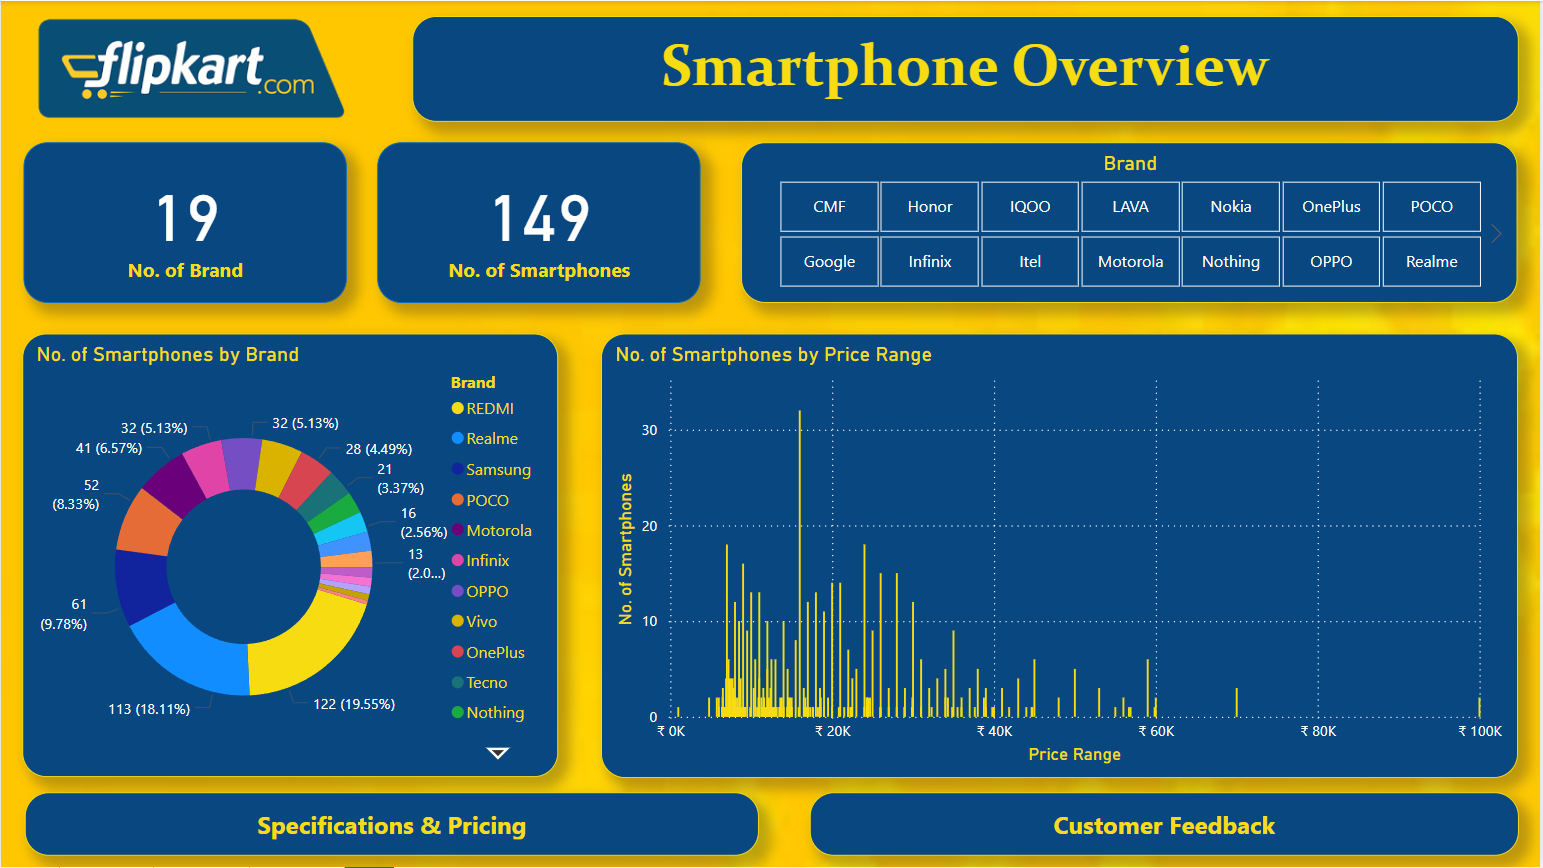

The page's visual inventory and layout, read from the dashboard file:
{"tool":"powerbi","page":{"name":"Page 1","canvas":[1280,720],"ordinal":0},"visuals":[{"type":"donutChart","fields":{"Category":["Flipkart_data_phones.Brand"],"Y":["CountNonNull(Flipkart_data_phones.Brand)"]},"box":[18.1,276.9,445.2,368.7],"z":0},{"type":"clusteredColumnChart","fields":{"Category":["Flipkart_data_phones.Prices"],"Y":["CountNonNull(Flipkart_data_phones.Prices)"]},"box":[498.9,276.4,762.2,369.5],"z":1000},{"type":"card","fields":{"Values":["Count(Flipkart_data_phones.Brand)"]},"box":[18.9,117.8,269.1,133.8],"z":2000},{"type":"card","fields":{"Values":["Count(Flipkart_data_phones.Model)"]},"box":[312.7,117.8,269.1,133.8],"z":3000},{"type":"image","box":[19.5,7,276.9,100.2],"z":4000},{"type":"actionButton","title":"Specifications & Pricing","box":[19.5,658.1,610.8,52.9],"z":5000},{"type":"actionButton","box":[672,658.1,589.9,52.9],"z":6000},{"type":"textbox","box":[342.3,12.5,919.7,87.7],"z":7000},{"type":"slicer","title":"Brand","fields":{"Values":["Flipkart_data_phones.Brand"]},"box":[615.3,117.8,645.8,133.8],"z":11000}]}

Visuals, with their boxes in screenshot pixels (x1, y1, x2, y2), scaled from the page's 1280x720 canvas onto the 1543x868 screenshot:
donutChart - Flipkart_data_phones.Brand x CountNonNull(Flipkart_data_phones.Brand): x1=22 y1=334 x2=558 y2=778
clusteredColumnChart - Flipkart_data_phones.Prices x CountNonNull(Flipkart_data_phones.Prices): x1=601 y1=333 x2=1520 y2=779
card - Count(Flipkart_data_phones.Brand): x1=23 y1=142 x2=347 y2=303
card - Count(Flipkart_data_phones.Model): x1=377 y1=142 x2=701 y2=303
image: x1=24 y1=8 x2=357 y2=129
"Specifications & Pricing" actionButton: x1=24 y1=793 x2=760 y2=857
actionButton: x1=810 y1=793 x2=1521 y2=857
textbox: x1=413 y1=15 x2=1521 y2=121
"Brand" slicer: x1=742 y1=142 x2=1520 y2=303
